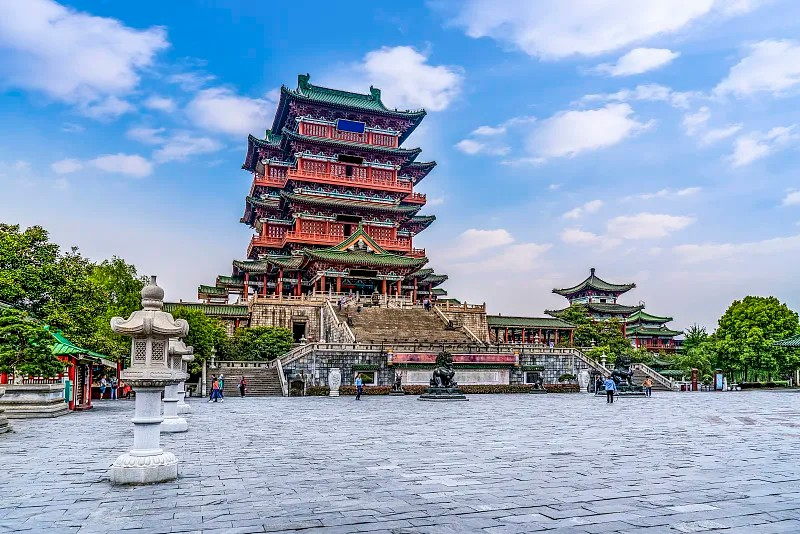Teng: (197, 72, 461, 308)
